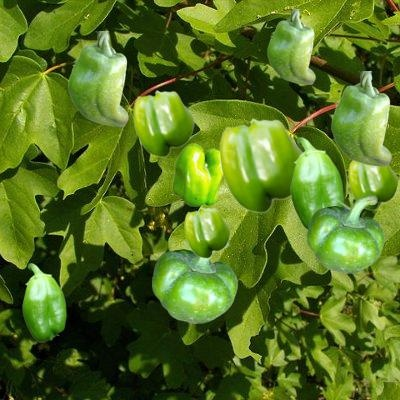bell_pepper: (219, 118, 302, 212), (152, 240, 236, 322), (307, 194, 383, 272), (68, 31, 127, 125), (331, 71, 390, 165), (290, 137, 342, 229), (133, 90, 193, 156), (267, 9, 314, 83), (22, 263, 65, 341), (172, 143, 222, 205), (348, 160, 397, 209), (184, 207, 229, 257)
